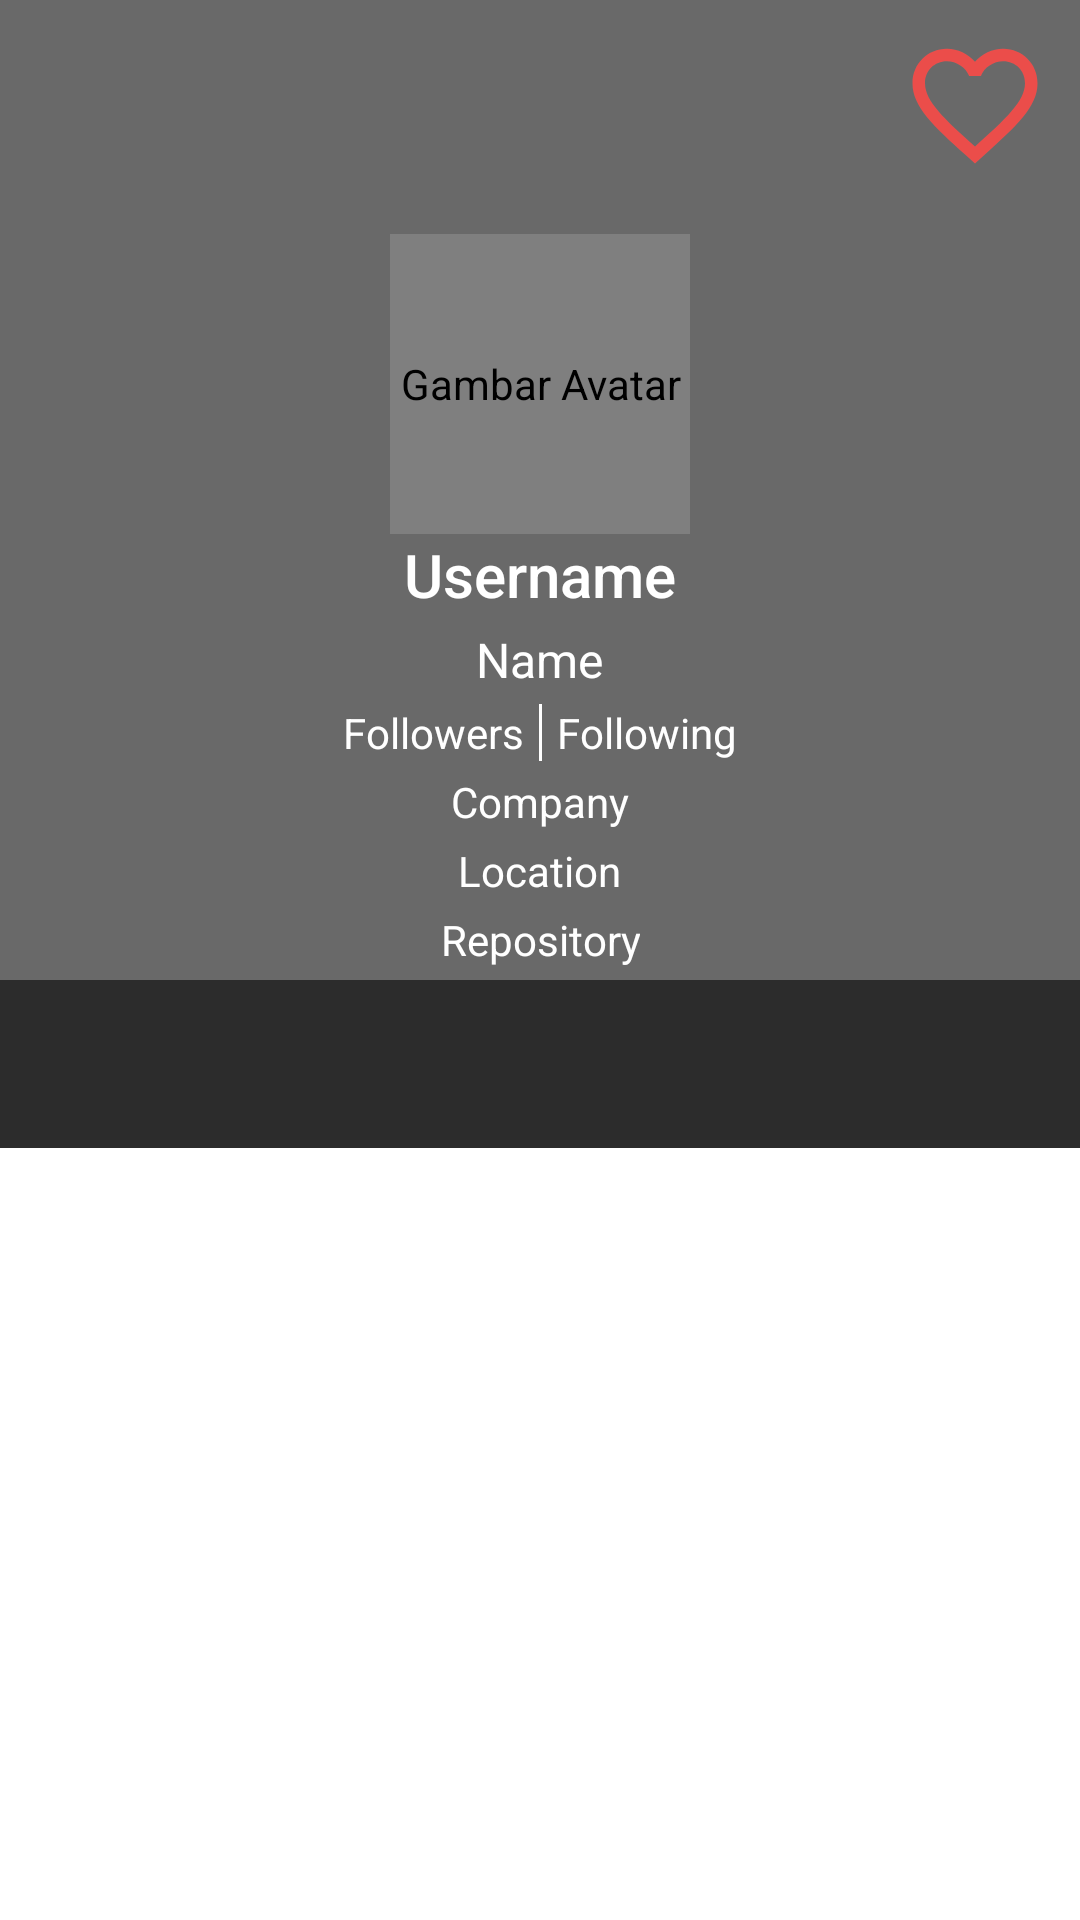

Locate icon controls on the screen. Image size 1080×1920, boxes as (x1, y1, x2, y2).
favorite border: (912, 48, 1038, 163)
